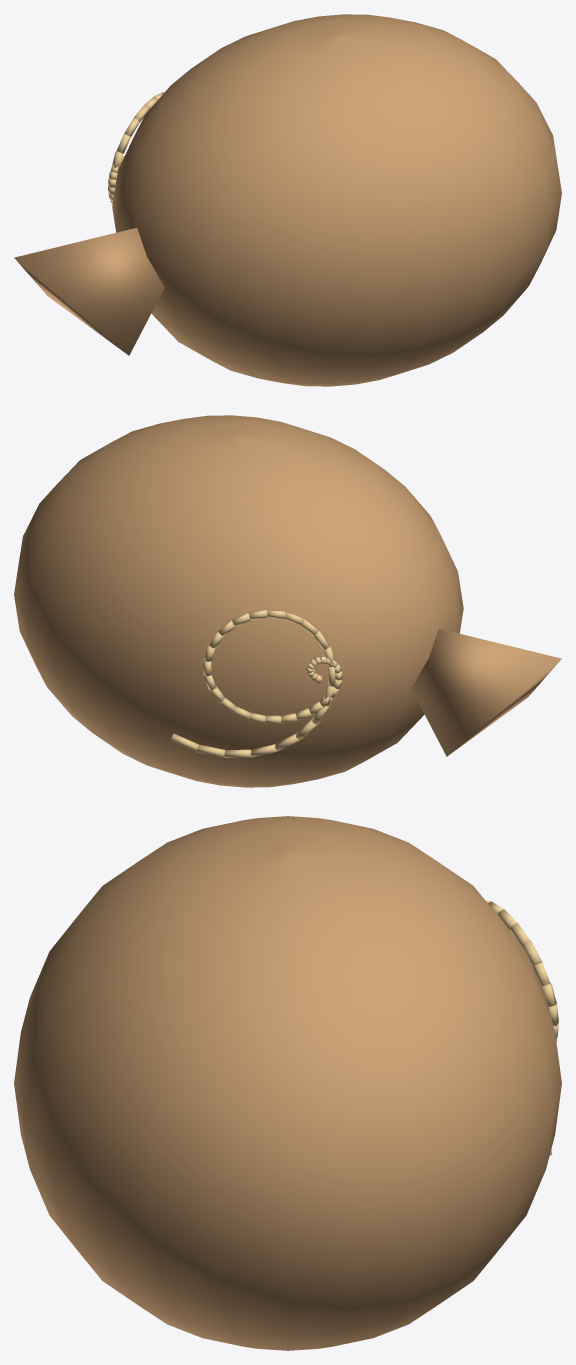
File: SmallGastropodShell.fbx
The picture shows the model from 3 angles, top to bottom: view 1: azimuth 30°, elevation 25°; view 2: azimuth 150°, elevation 25°; view 3: azimuth 270°, elevation 25°; orthographic projection. The views are drawn at different scales.
Parts seen in each view (by area): view 1: SmallGastropodShell_Mesh; view 2: SmallGastropodShell_Mesh; view 3: SmallGastropodShell_Mesh.
Boxes of the visible parts, x1,y1,x2,y2 form: SmallGastropodShell_Mesh: [14, 14, 561, 386]; SmallGastropodShell_Mesh: [14, 415, 561, 787]; SmallGastropodShell_Mesh: [14, 816, 561, 1350].
Bounding box in the file's own units: 0.381 × 0.228 × 0.246.
